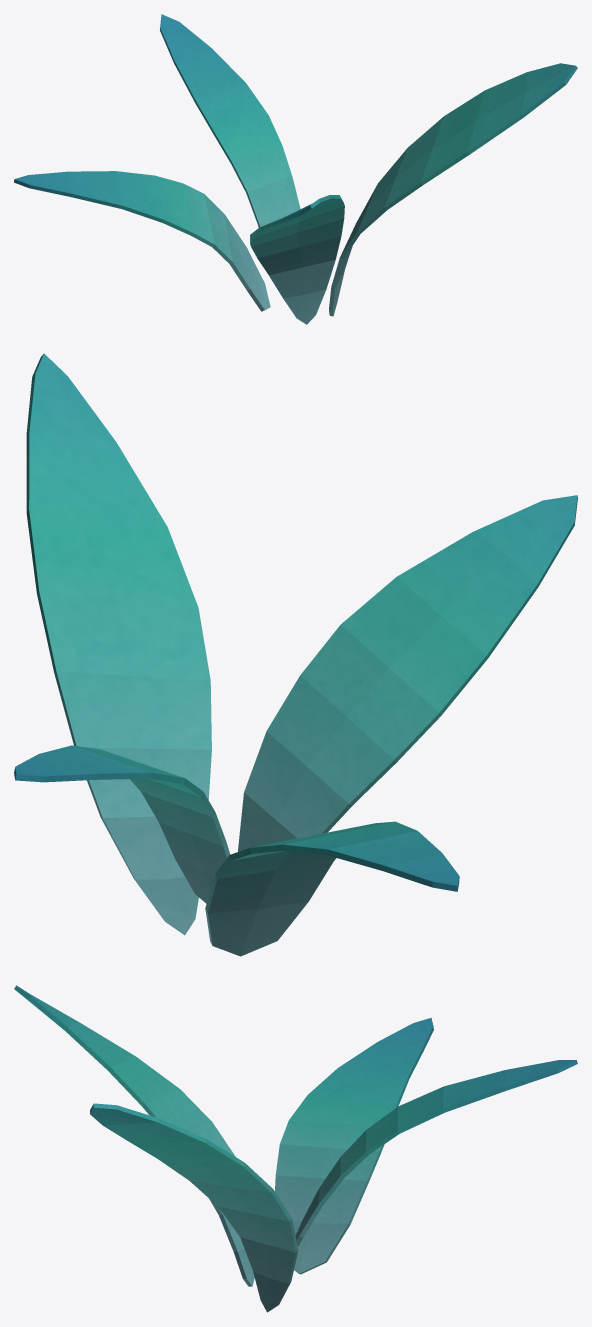
Rendered from grass_2.obj.
3 renders of one model, top to bottom at view 1: azimuth 30°, elevation 25°; view 2: azimuth 150°, elevation 25°; view 3: azimuth 270°, elevation 25°, orthographic. The views are drawn at different scales.
Parts seen in each view (by area): view 1: grass_2; view 2: grass_2; view 3: grass_2.
Boxes of the visible parts, x1,y1,x2,y2 form: grass_2: (14,14,577,324); grass_2: (14,353,577,956); grass_2: (14,985,577,1312).
Bounding box in the file's own units: 0.8185 × 0.5067 × 0.8656.
